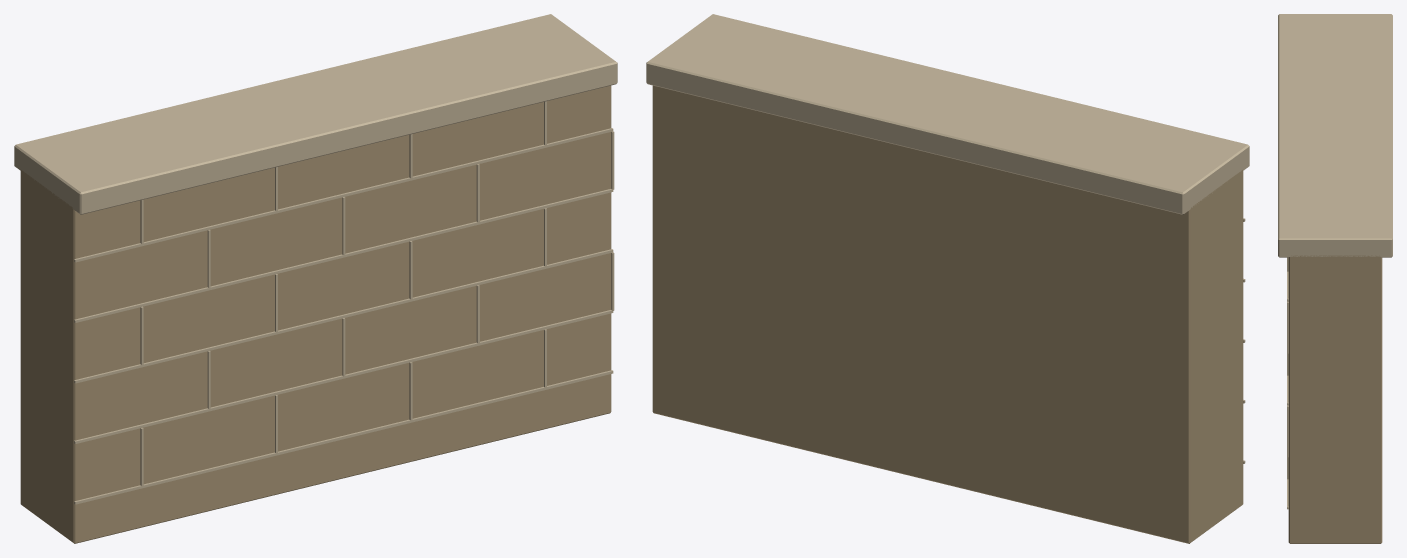
Rendered from quay_wall.glb.
The picture shows the model from 3 angles, left to right: view 1: azimuth 30°, elevation 25°; view 2: azimuth 150°, elevation 25°; view 3: azimuth 270°, elevation 25°; orthographic projection. The views are drawn at different scales.
Visible parts, largest first — view 1: wall; view 2: wall; view 3: wall.
Part boxes in pixels (<box>): wall: <box>14,14,617,543</box>; wall: <box>646,14,1249,543</box>; wall: <box>1278,14,1392,543</box>.
Size of the model in its own units: 4.01 by 2.53 by 0.86.
